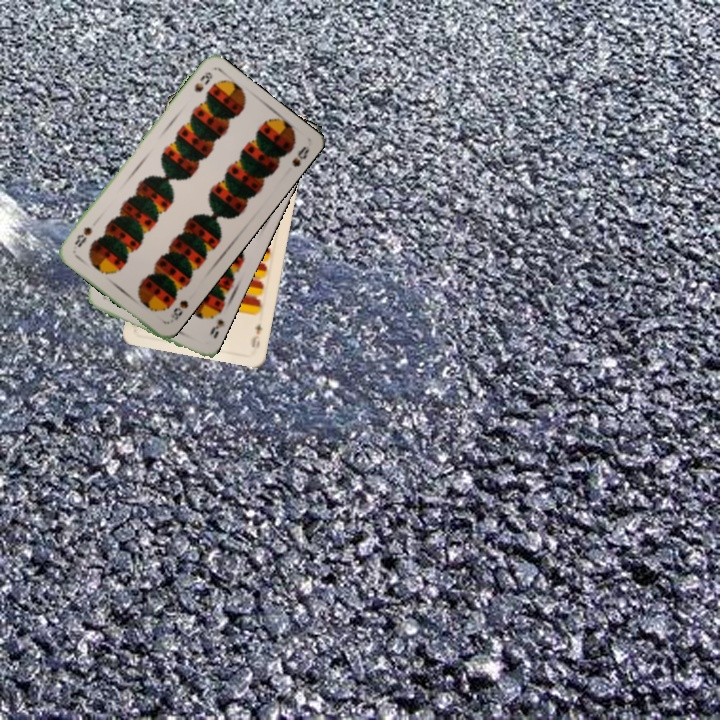E9: (247, 320, 264, 350)
S8: (163, 296, 191, 325), (190, 67, 215, 95)
S9: (206, 305, 227, 341)
